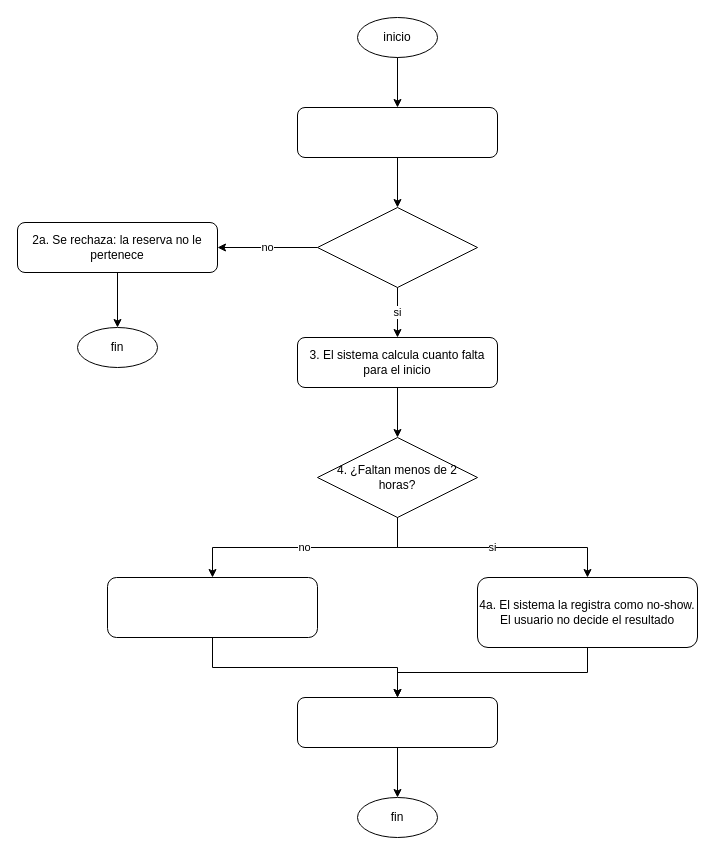
Some shapes in this 715 by 855 pixel diagram are drawn without their labels. Each missing label, with the centre of its shape:
"1. El estudiante pide cancelar una reserva" goes at pixel 397 132.
"2. ¿La reserva es suya?" goes at pixel 397 247.
"4. Se registra como cancelacion normal (estado cancelada)" goes at pixel 212 607.
"5. El sistema avisa el resultado al estudiante" goes at pixel 397 722.
